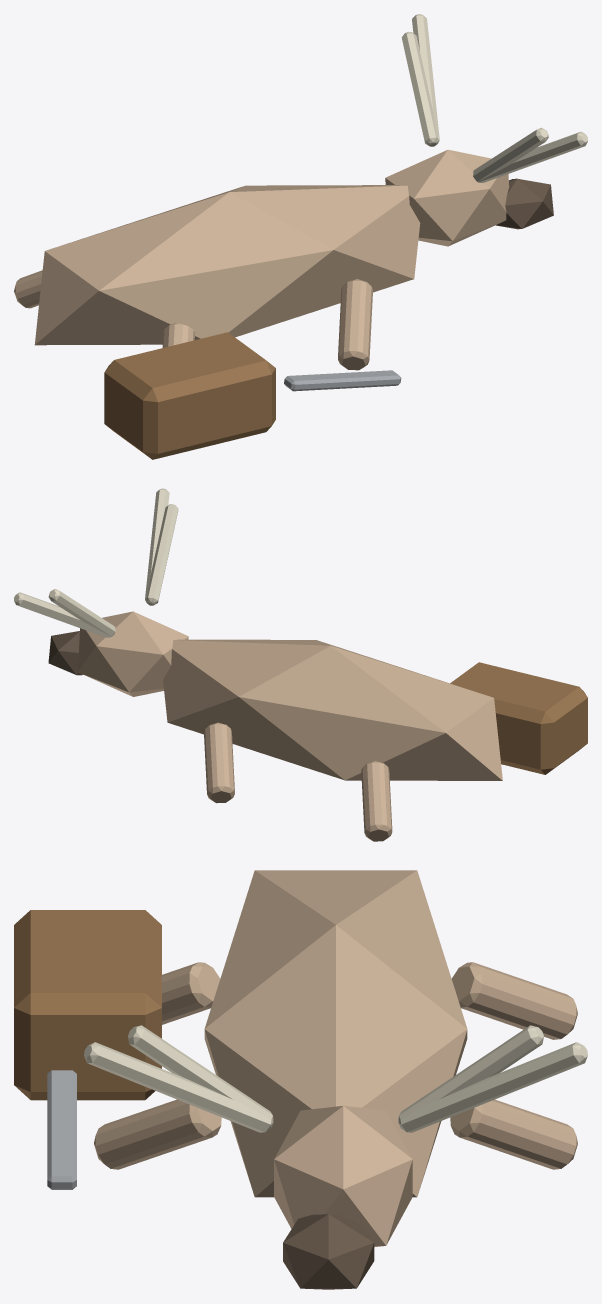
Rendered from deer_hunting_trail.glb.
3 renders of one model, top to bottom at view 1: azimuth 30°, elevation 25°; view 2: azimuth 150°, elevation 25°; view 3: azimuth 270°, elevation 25°, orthographic. The views are drawn at different scales.
Bounding box in the file's own units: 2.39 × 0.8966 × 1.55.
